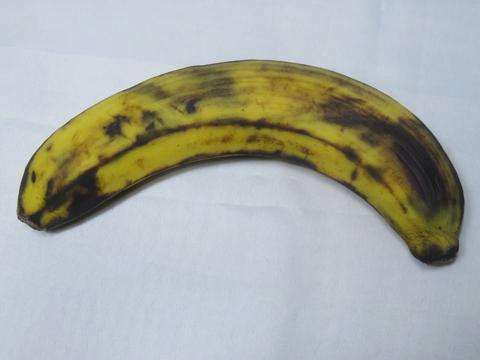overripe: (8, 48, 479, 278)
